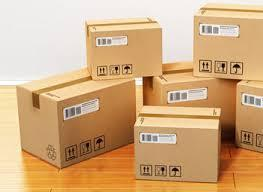box: (16, 67, 136, 170), (143, 60, 241, 145), (133, 105, 220, 183), (194, 2, 263, 81), (84, 17, 163, 80), (236, 80, 263, 154)
